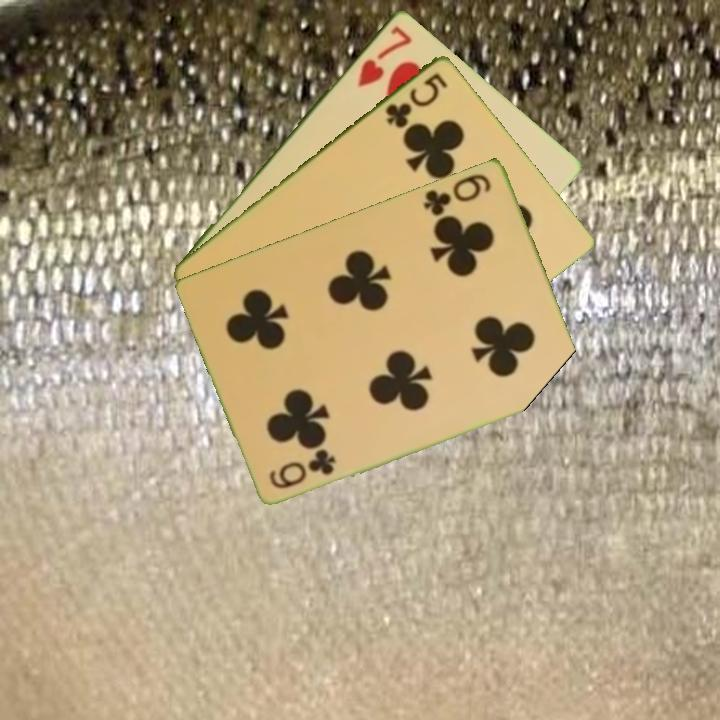5c: (382, 69, 451, 131)
6c: (420, 169, 494, 219), (266, 446, 339, 492)
7h: (353, 22, 415, 90)
